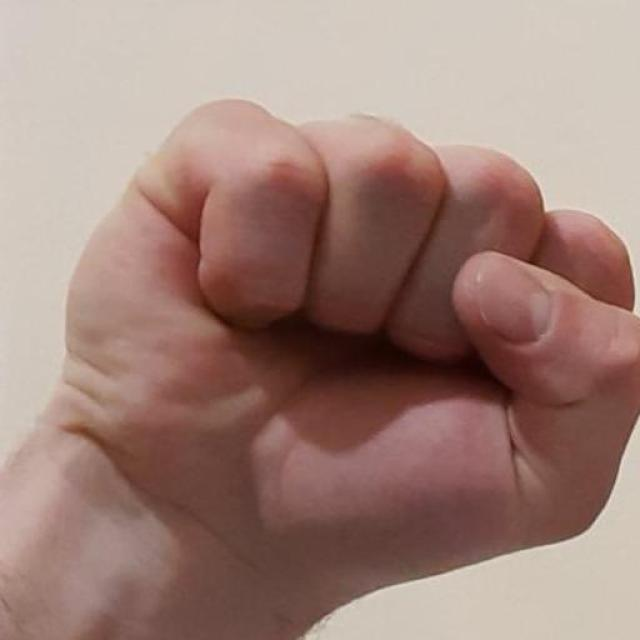hand: (1, 95, 640, 639)
